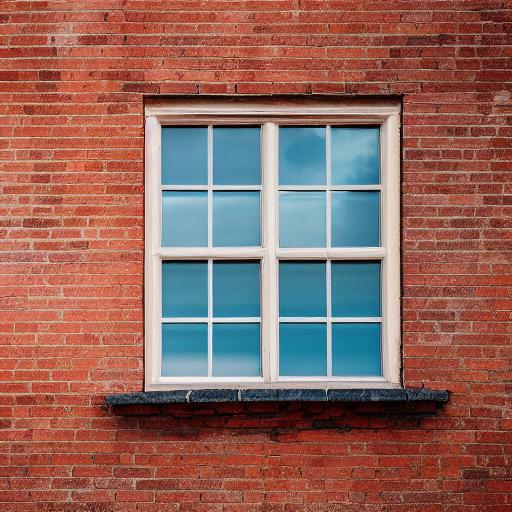Window: (102, 90, 450, 409)
